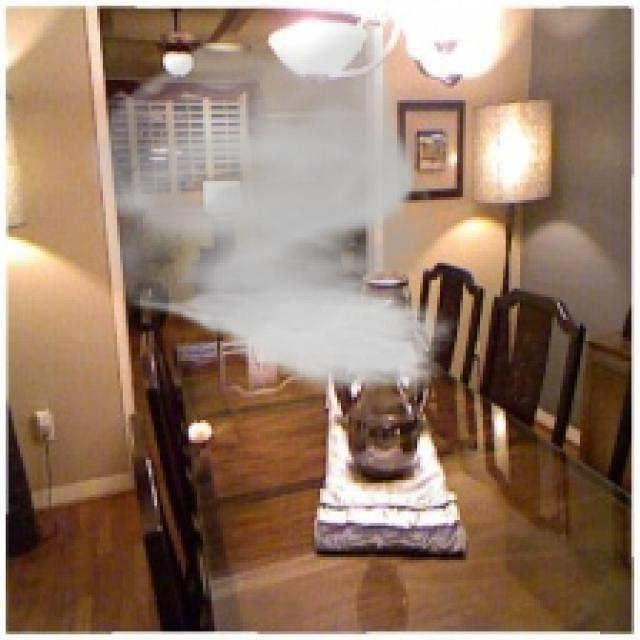Smoke: (77, 22, 460, 398)
